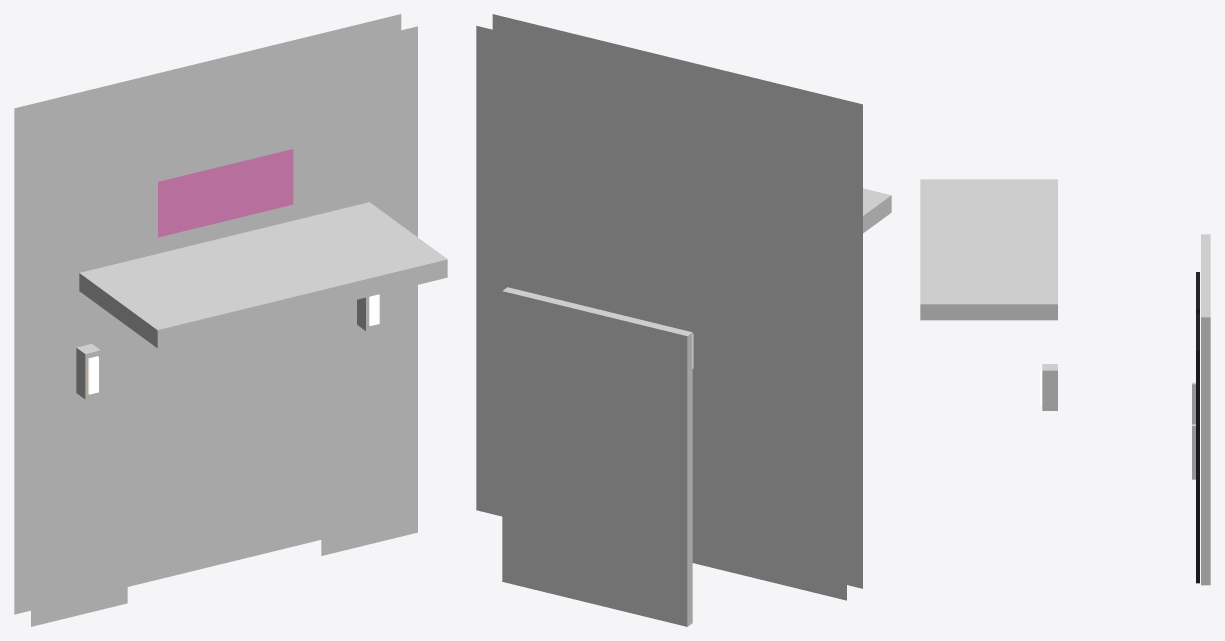
The model's file is OCK_Bay_Storefront_D.fbx.
The picture shows the model from 3 angles, left to right: view 1: azimuth 30°, elevation 25°; view 2: azimuth 150°, elevation 25°; view 3: azimuth 270°, elevation 25°; orthographic projection. The views are drawn at different scales.
Parts seen in each view (by area): view 1: OCK_Bay_Storefront_D; view 2: OCK_Bay_Storefront_D; view 3: OCK_Bay_Storefront_D.
Boxes of the visible parts, left/top/right/bottom form: OCK_Bay_Storefront_D: left=14, top=14, right=447, bottom=626; OCK_Bay_Storefront_D: left=476, top=14, right=891, bottom=626; OCK_Bay_Storefront_D: left=920, top=179, right=1210, bottom=585.
Size of the model in its own units: 400 by 500 by 295.
